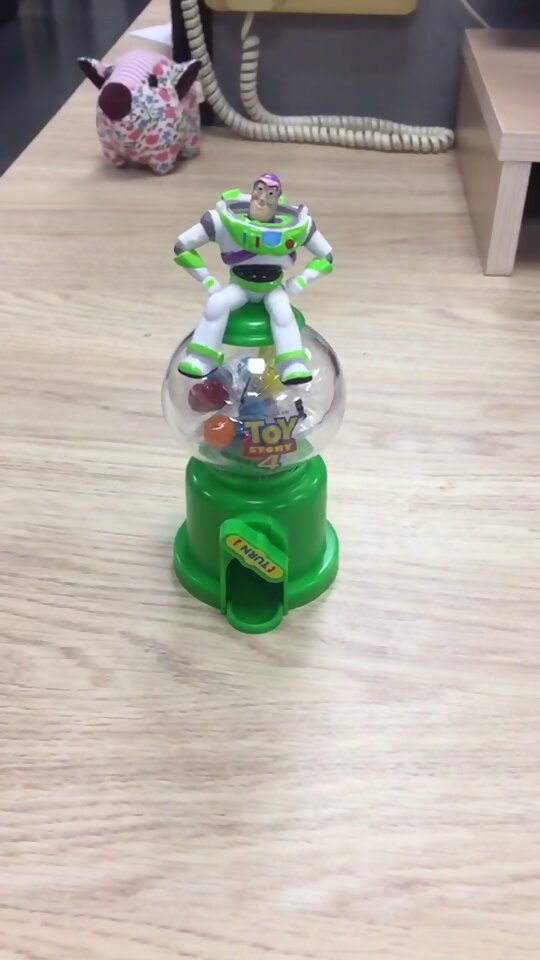buzz: (155, 169, 348, 637)
